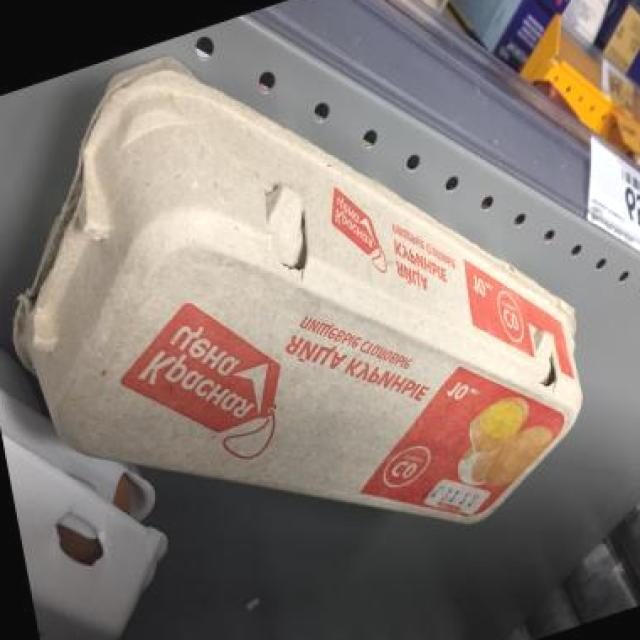egg: (0, 0, 635, 640), (418, 0, 570, 113), (454, 0, 614, 59)
